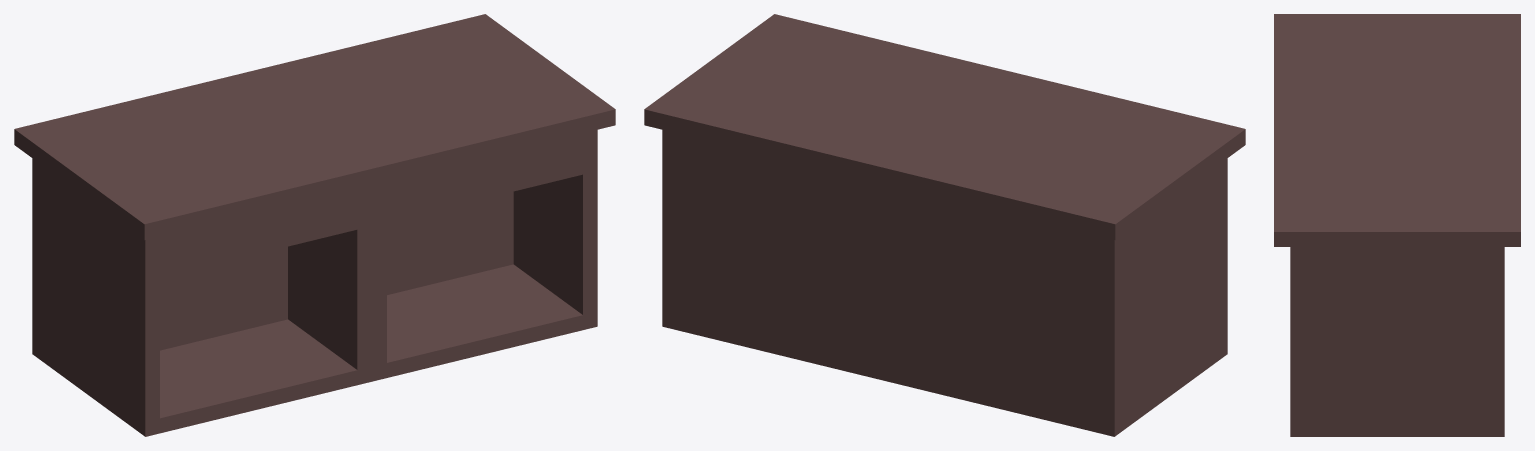
Rendered from counter_s.fbx.
3 views of the same model, side by side, from view 1: azimuth 30°, elevation 25°; view 2: azimuth 150°, elevation 25°; view 3: azimuth 270°, elevation 25° (orthographic). The views are drawn at different scales.
Visible parts, largest first — view 1: Cube; view 2: Cube; view 3: Cube.
Part boxes in pixels (x1,y1,x2,y2): Cube: [14, 14, 615, 436]; Cube: [644, 14, 1245, 436]; Cube: [1274, 14, 1520, 436].
Size of the model in its own units: 337 by 151 by 161.
